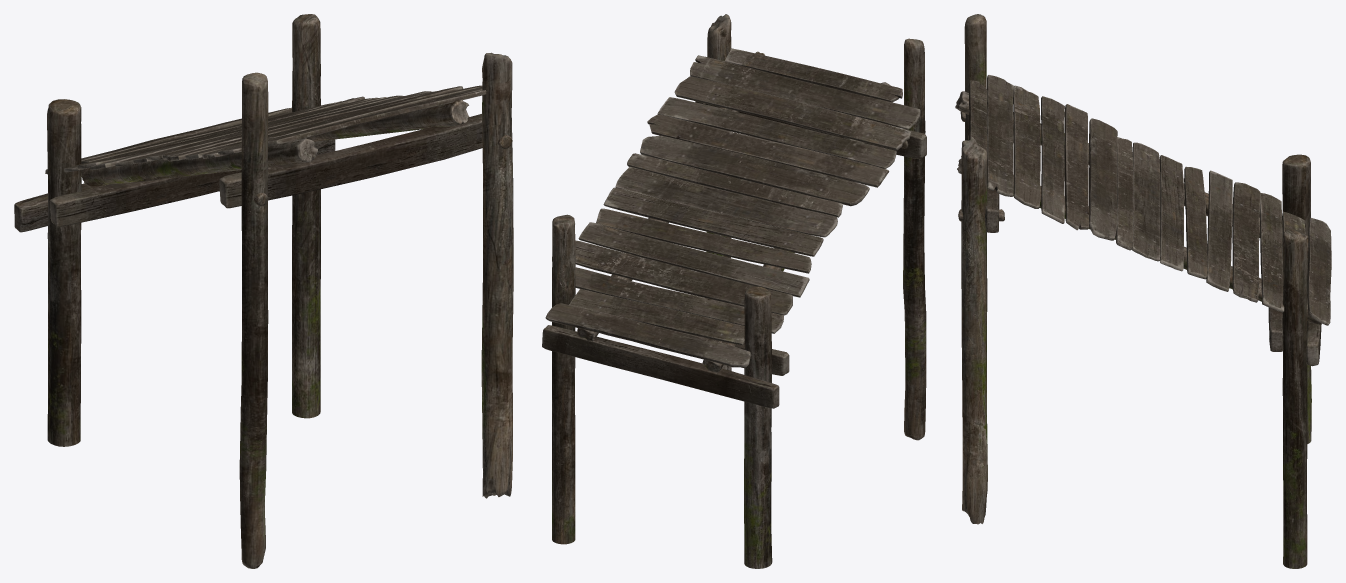
3 renders of one model, left to right at view 1: azimuth 30°, elevation 25°; view 2: azimuth 150°, elevation 25°; view 3: azimuth 270°, elevation 25°, orthographic. The views are drawn at different scales.
Visible parts, largest first — view 1: modular_wooden_pier_kit__f_lod0; view 2: modular_wooden_pier_kit__f_lod0; view 3: modular_wooden_pier_kit__f_lod0.
Boxes of the visible parts, <box> form: modular_wooden_pier_kit__f_lod0: <box>14,14,513,568</box>; modular_wooden_pier_kit__f_lod0: <box>542,14,926,568</box>; modular_wooden_pier_kit__f_lod0: <box>955,14,1331,568</box>.
Bounding box in the file's own units: 2.46 × 4.16 × 3.16.
2 materials, 2 textured.
